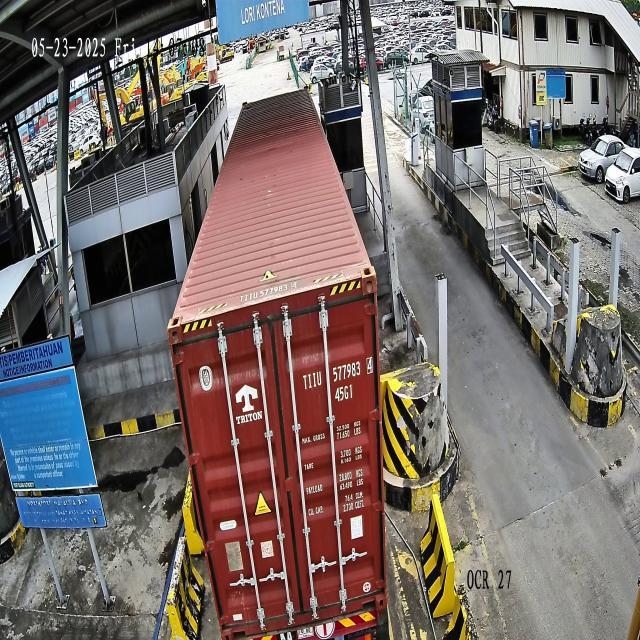ISO: (334, 383, 354, 402)
container_number: (302, 354, 374, 390)
